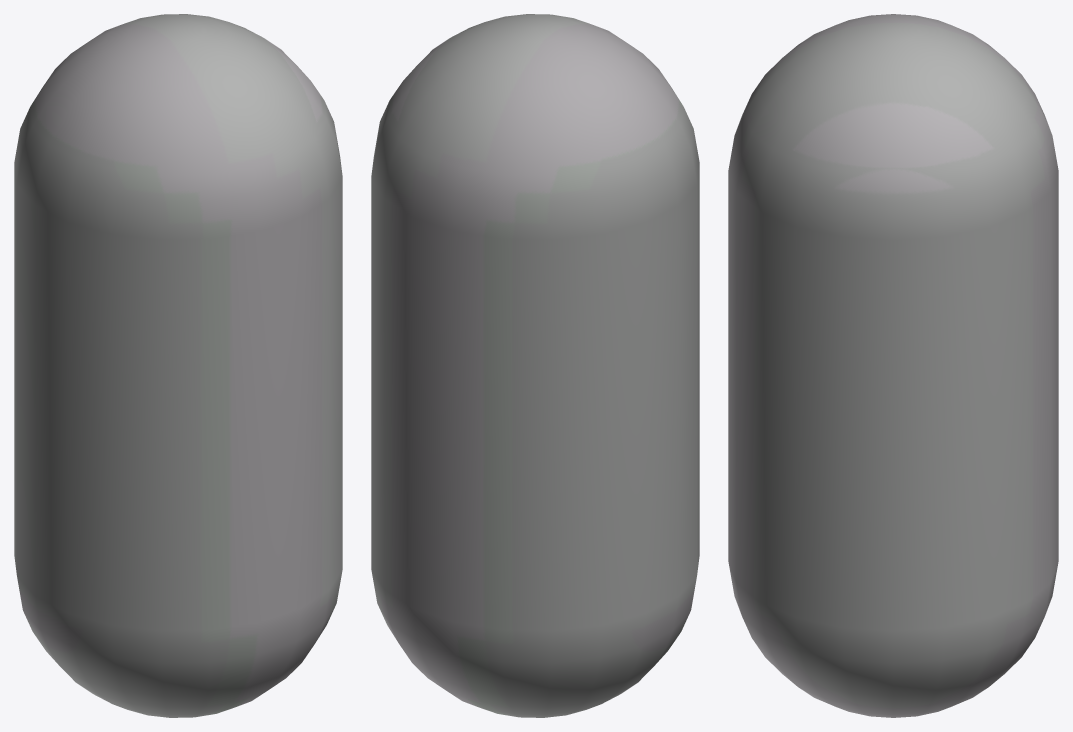
3 renders of one model, left to right at view 1: azimuth 30°, elevation 25°; view 2: azimuth 150°, elevation 25°; view 3: azimuth 270°, elevation 25°, orthographic.
Parts seen in each view (by area): view 1: node_id46; view 2: node_id46; view 3: node_id46.
Boxes of the visible parts, bbox=[...] form: node_id46: bbox=[14, 14, 342, 717]; node_id46: bbox=[371, 14, 699, 717]; node_id46: bbox=[728, 14, 1058, 717].
Bounding box in the file's own units: 0.2276 × 0.512 × 0.2276.
1 material, 1 textured.
